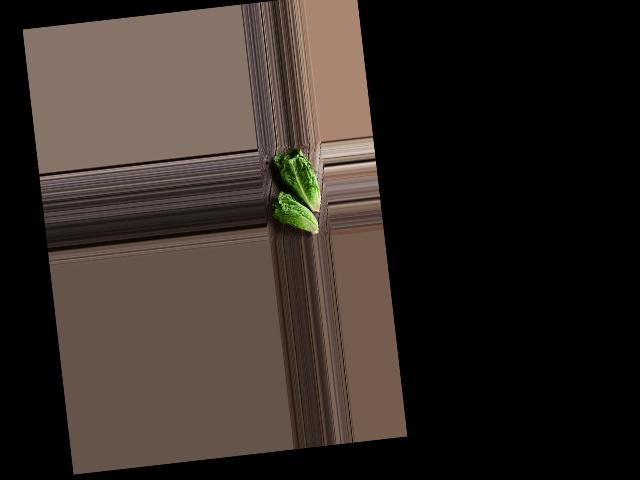lettuce: (265, 186, 321, 242)
